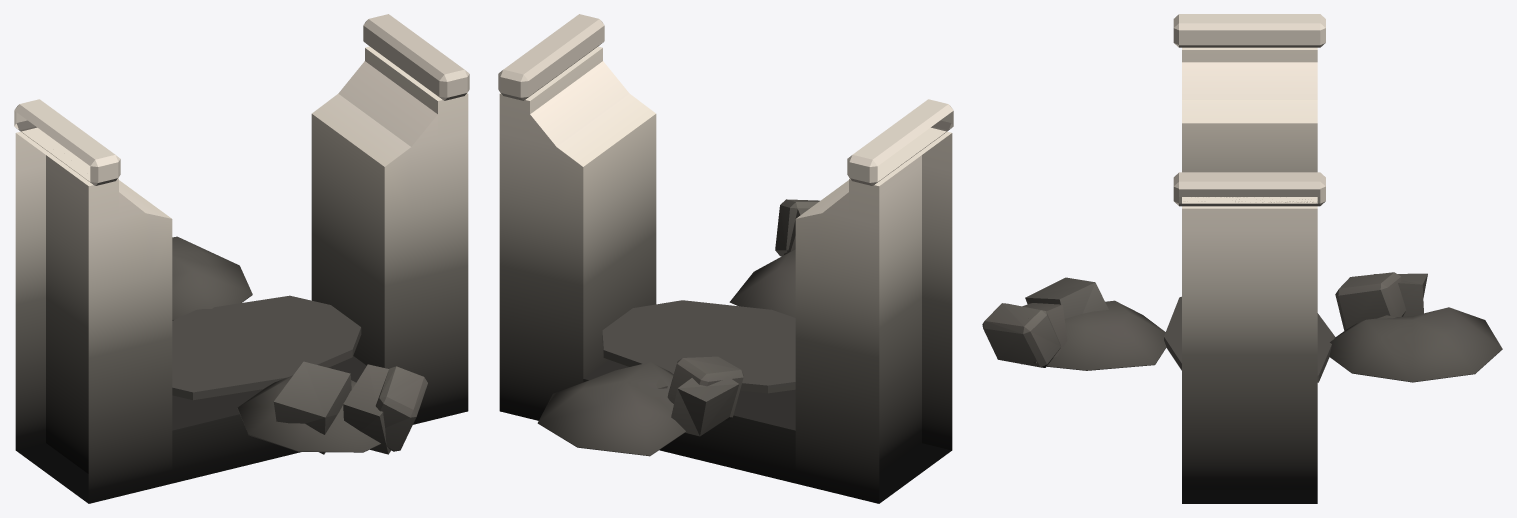
The model's file is SM_VKI_Wall_Ancient_Breach_150_Cut.fbx.
The picture shows the model from 3 angles, left to right: view 1: azimuth 30°, elevation 25°; view 2: azimuth 150°, elevation 25°; view 3: azimuth 270°, elevation 25°; orthographic projection. The views are drawn at different scales.
Visible parts, largest first — view 1: SM_VKI_Wall_Ancient_Breach_150_Cut.001; view 2: SM_VKI_Wall_Ancient_Breach_150_Cut.001; view 3: SM_VKI_Wall_Ancient_Breach_150_Cut.001.
Part boxes in pixels (bbox=[...]): SM_VKI_Wall_Ancient_Breach_150_Cut.001: bbox=[14, 14, 469, 503]; SM_VKI_Wall_Ancient_Breach_150_Cut.001: bbox=[498, 14, 953, 503]; SM_VKI_Wall_Ancient_Breach_150_Cut.001: bbox=[982, 14, 1502, 503].
Size of the model in its own units: 1.5 by 1.3 by 1.91.
